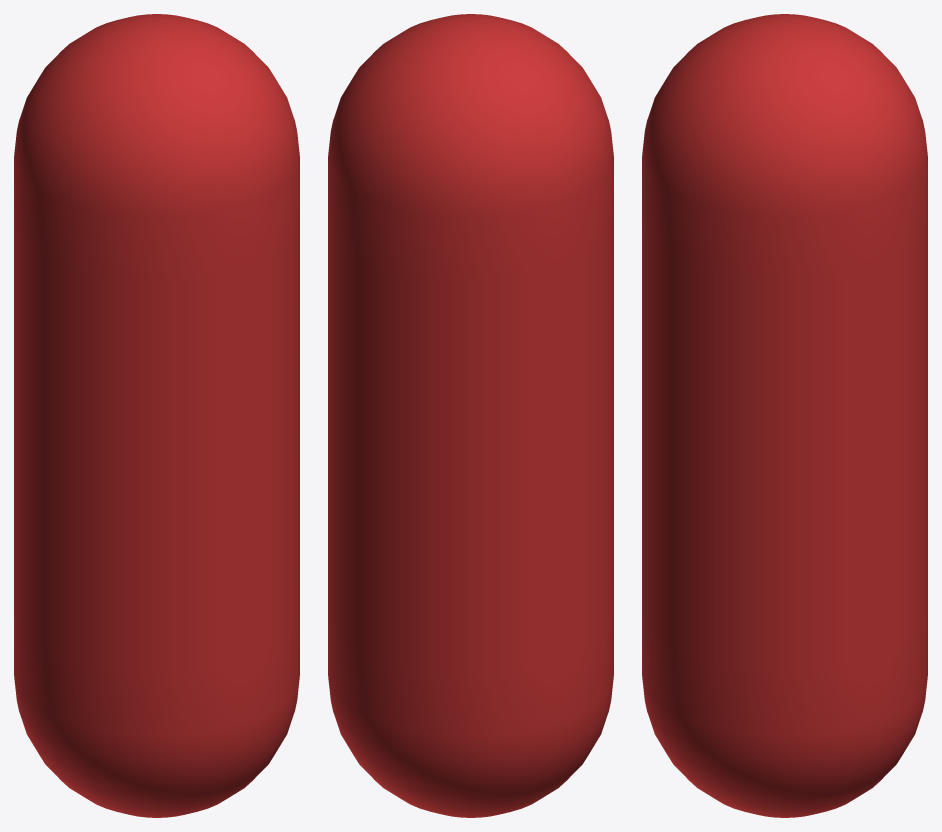
Rendered from Bacteria_Rad25_1_1.dae.
3 views of the same model, side by side, from view 1: azimuth 30°, elevation 25°; view 2: azimuth 150°, elevation 25°; view 3: azimuth 270°, elevation 25° (orthographic).
Visible parts, largest first — view 1: Bacteria_Rad25_1_1; view 2: Bacteria_Rad25_1_1; view 3: Bacteria_Rad25_1_1.
Part boxes in pixels (left/top/right/bottom): Bacteria_Rad25_1_1: left=14, top=14, right=299, bottom=817; Bacteria_Rad25_1_1: left=328, top=14, right=613, bottom=817; Bacteria_Rad25_1_1: left=642, top=14, right=927, bottom=817.
Size of the model in its own units: 50 by 150 by 50.
